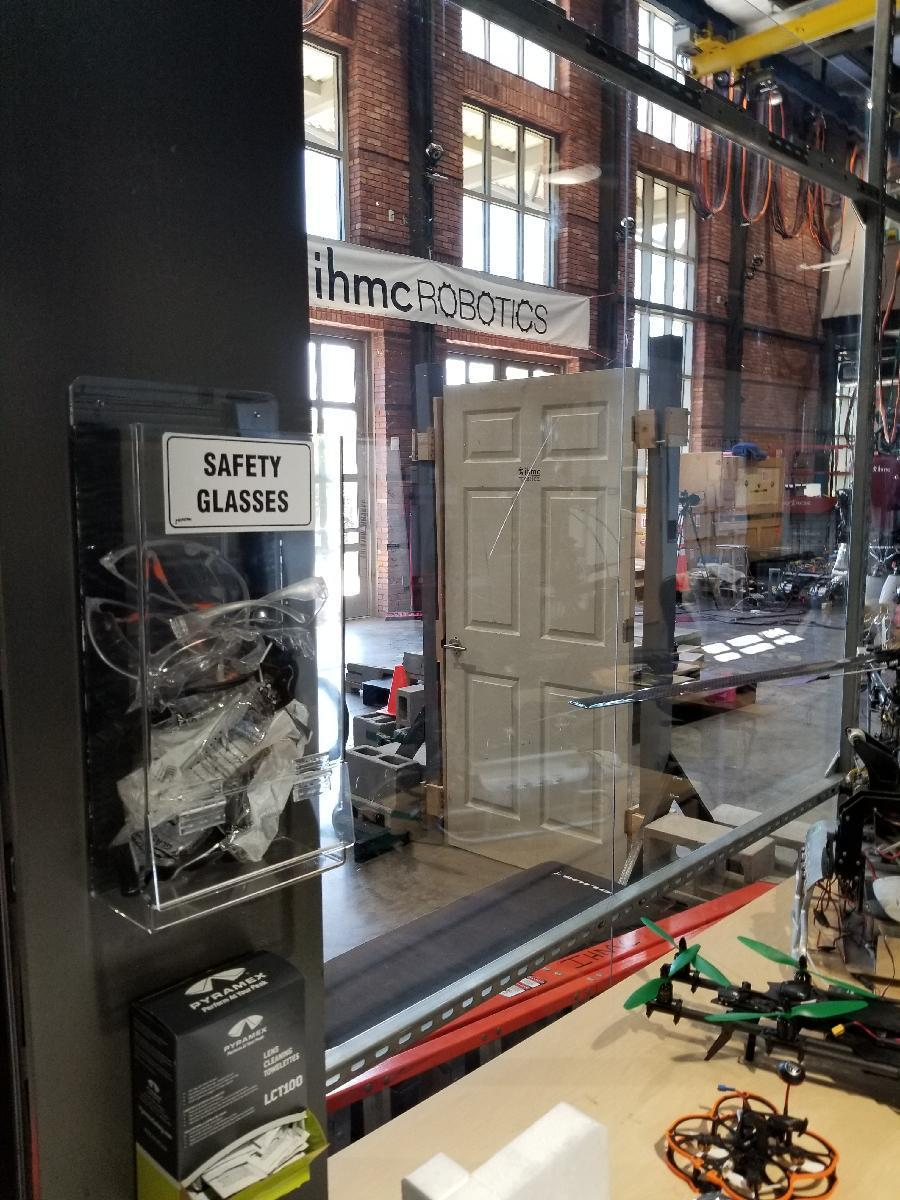door: (438, 373, 637, 883)
handle: (446, 636, 468, 662)
